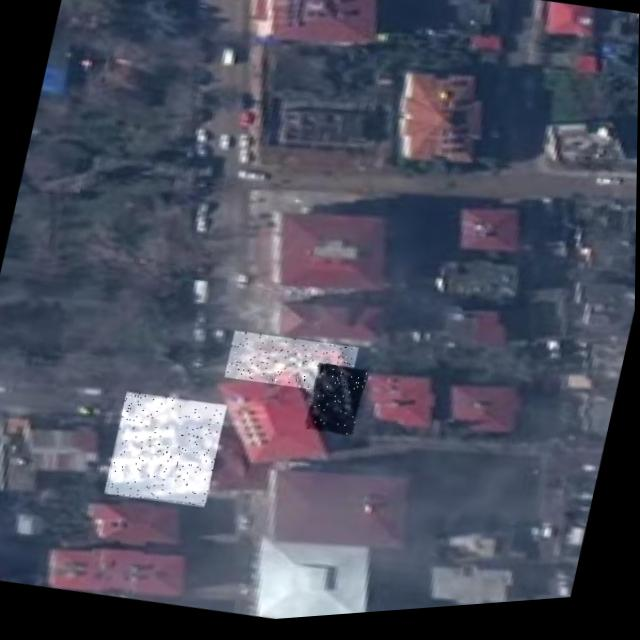Rubble: (104, 387, 227, 516), (224, 327, 358, 407), (304, 364, 368, 444)
